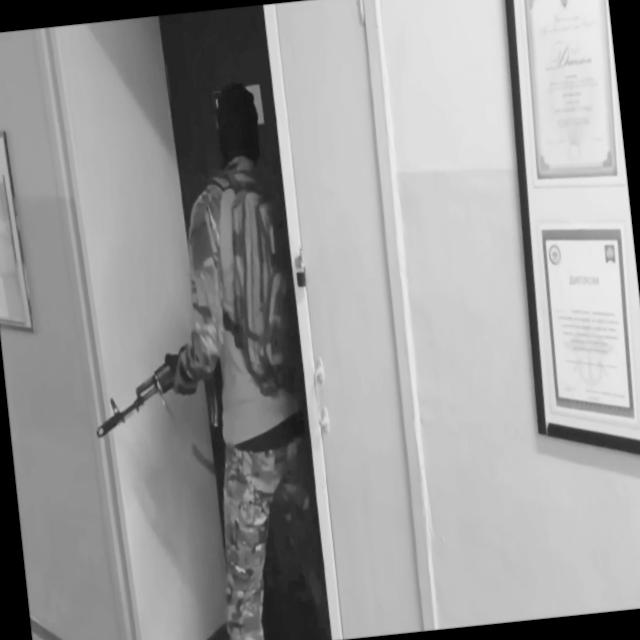gun: (86, 334, 229, 448)
person with a gun: (60, 77, 330, 640)
